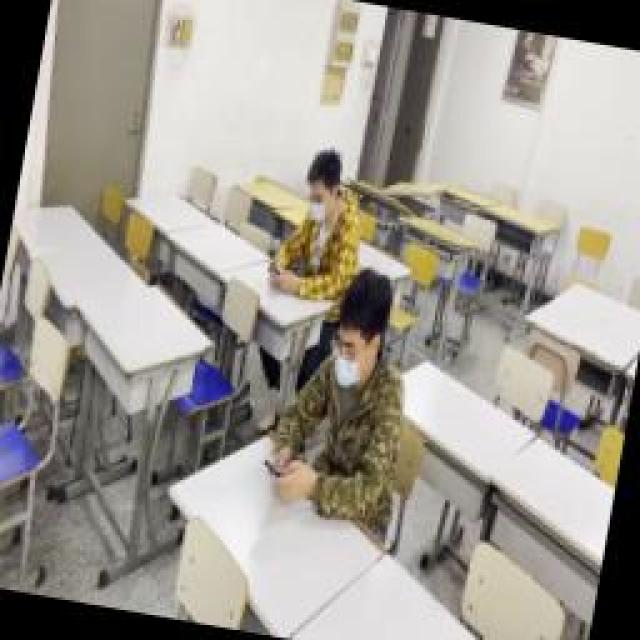phone: (255, 298, 423, 530), (267, 142, 365, 300)
